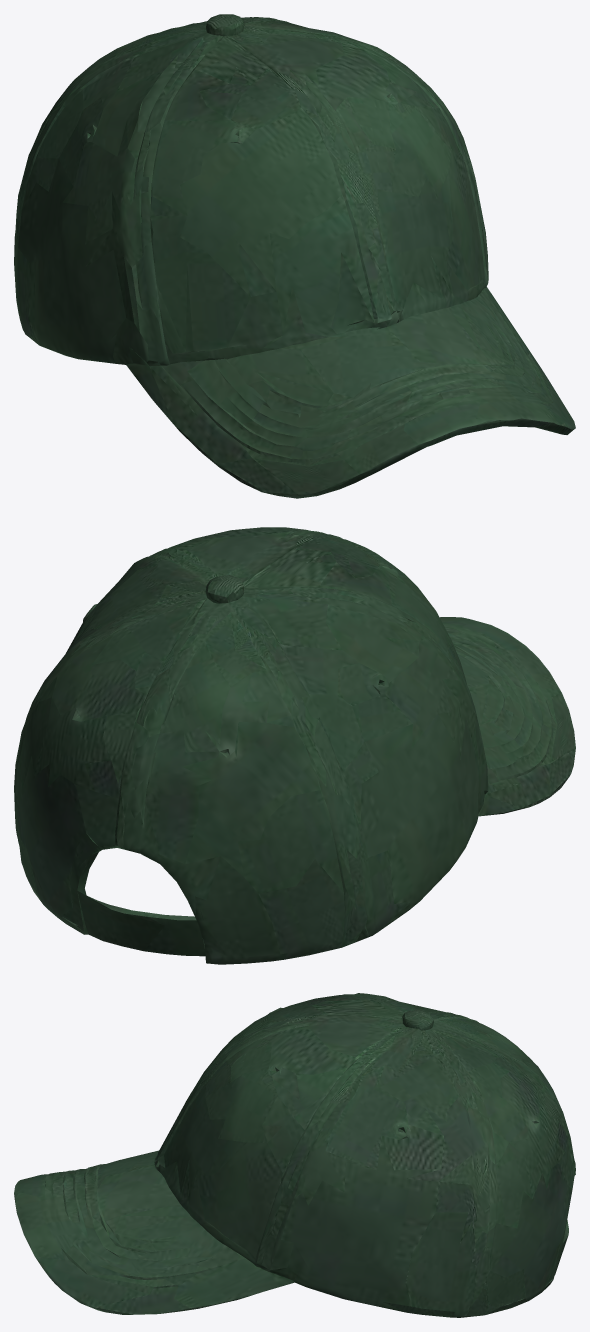
Rendered from acc_cap.glb.
3 views of the same model, one above another, from view 1: azimuth 30°, elevation 25°; view 2: azimuth 150°, elevation 25°; view 3: azimuth 270°, elevation 25° (orthographic). The views are drawn at different scales.
Size of the model in its own units: 1.22 by 0.9278 by 1.9.
1 material, 1 textured.
